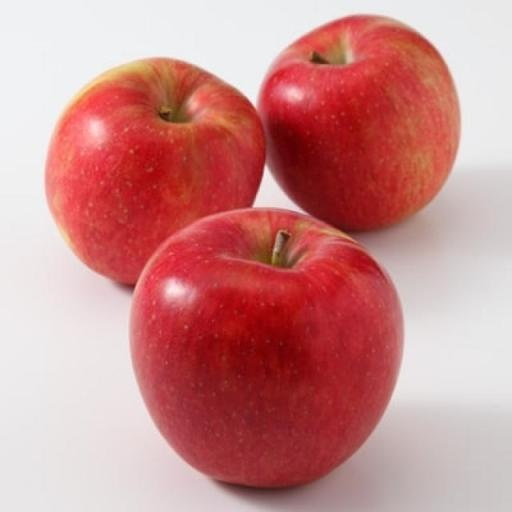fruit: (131, 209, 402, 487), (46, 59, 264, 283), (259, 16, 459, 229)
